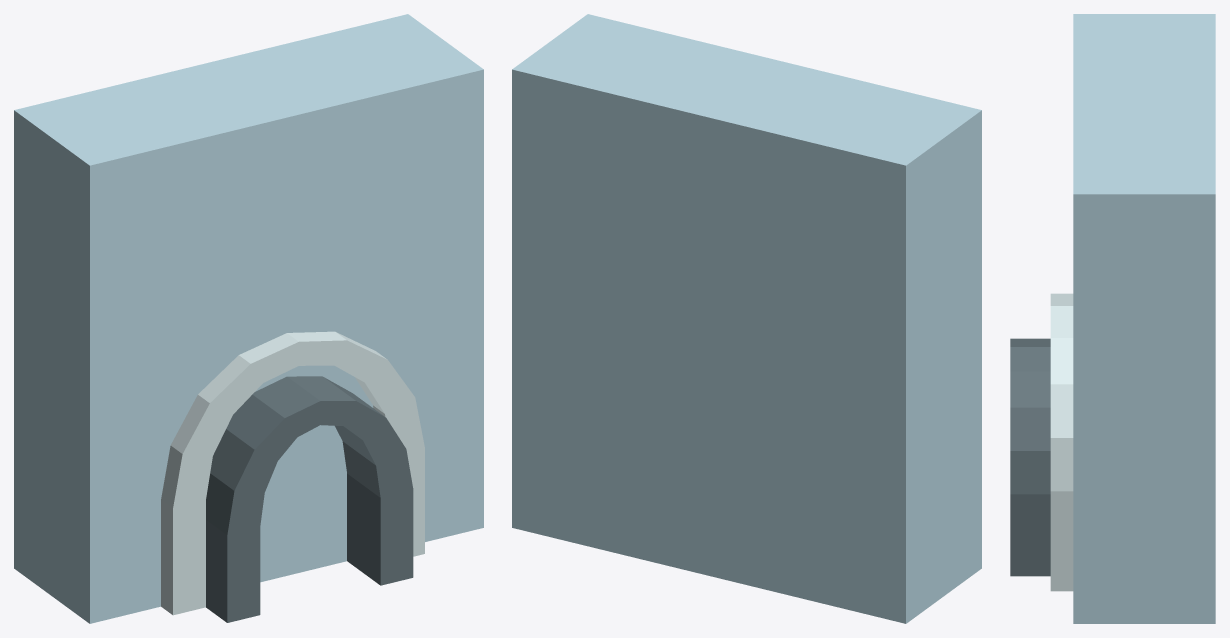
File: dragons_ice_cave_far-BMBbTxQ3.glb
3 views of the same model, side by side, from view 1: azimuth 30°, elevation 25°; view 2: azimuth 150°, elevation 25°; view 3: azimuth 270°, elevation 25° (orthographic). The views are drawn at different scales.
Parts seen in each view (by area): view 1: dragons_ice_cave_far; view 2: dragons_ice_cave_far; view 3: dragons_ice_cave_far.
Boxes of the visible parts, x1,y1,x2,y2 form: dragons_ice_cave_far: (14,14,483,623); dragons_ice_cave_far: (512,14,981,623); dragons_ice_cave_far: (1010,14,1215,623).
Bounding box in the file's own units: 18 × 20 × 8.65.
